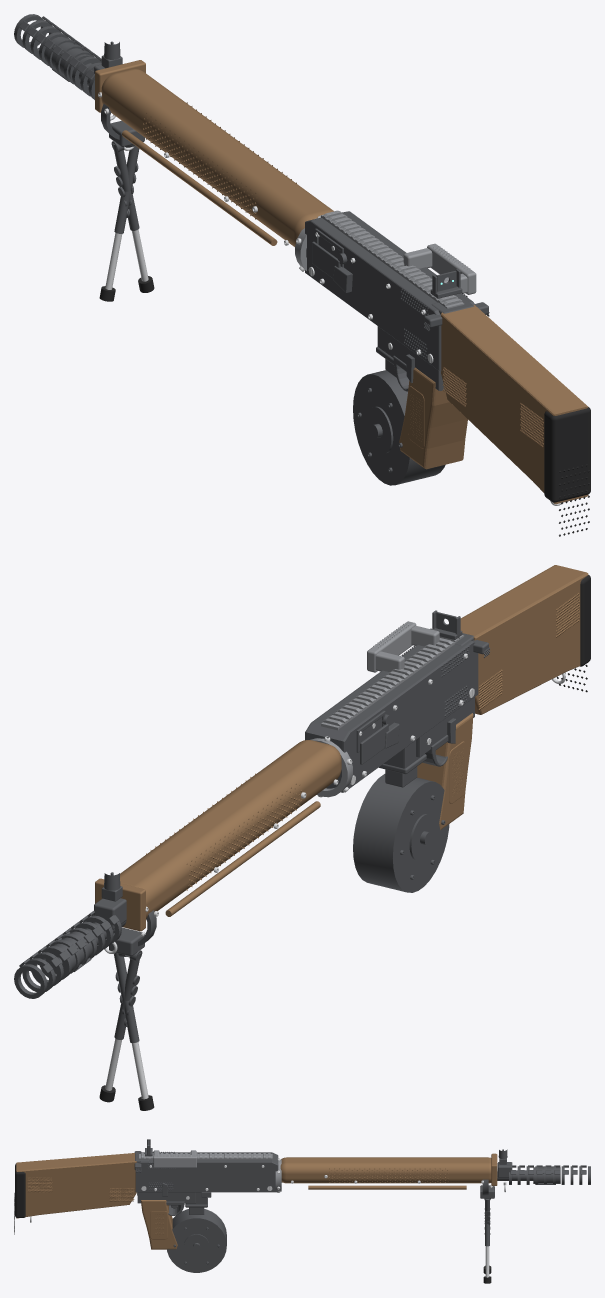
The model's file is rpk.glb.
The picture shows the model from 3 angles, top to bottom: view 1: azimuth 30°, elevation 25°; view 2: azimuth 150°, elevation 25°; view 3: azimuth 270°, elevation 25°; orthographic projection. The views are drawn at different scales.
Parts seen in each view (by area): view 1: Receiver, Magazine; view 2: Receiver, Magazine; view 3: Receiver, Magazine.
Boxes of the visible parts, box(x1,y1,x2,y2) form: Receiver: box(14, 14, 590, 536); Magazine: box(353, 359, 445, 485); Receiver: box(14, 565, 590, 1110); Magazine: box(353, 766, 449, 892); Receiver: box(14, 1139, 590, 1283); Magazine: box(167, 1207, 226, 1272).
Size of the model in its own units: 0.0738 by 0.2754 by 1.06.
